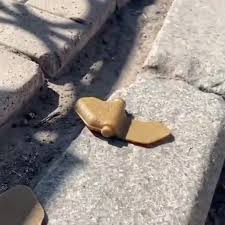butterfly: (69, 91, 176, 154)
